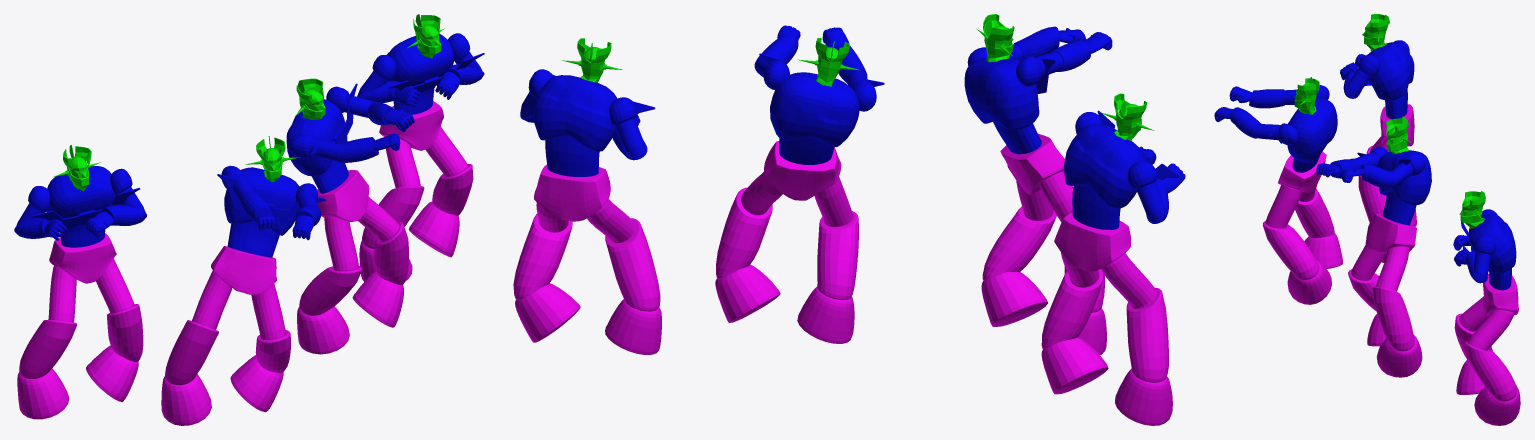
The model's file is MazingerZ_dance_02.fbx.
The picture shows the model from 3 angles, left to right: view 1: azimuth 30°, elevation 25°; view 2: azimuth 150°, elevation 25°; view 3: azimuth 270°, elevation 25°; orthographic projection. The views are drawn at different scales.
Visible parts, largest first — view 1: MazingerZ_GEO1, MazingerZ_GEO2, MazingerZ_GEO4, MazingerZ_GEO3; view 2: MazingerZ_GEO4, MazingerZ_GEO1, MazingerZ_GEO3, MazingerZ_GEO2; view 3: MazingerZ_GEO2, MazingerZ_GEO4, MazingerZ_GEO3, MazingerZ_GEO1.
Boxes of the visible parts, box(x1,y1,x2,y2) form: MazingerZ_GEO1: box(14, 145, 146, 419); MazingerZ_GEO2: box(161, 136, 326, 425); MazingerZ_GEO4: box(286, 78, 414, 354); MazingerZ_GEO3: box(357, 14, 484, 281); MazingerZ_GEO4: box(715, 25, 884, 343); MazingerZ_GEO1: box(1041, 93, 1185, 425); MazingerZ_GEO3: box(513, 38, 661, 354); MazingerZ_GEO2: box(964, 14, 1112, 354); MazingerZ_GEO2: box(1214, 77, 1342, 304); MazingerZ_GEO4: box(1316, 116, 1431, 377); MazingerZ_GEO3: box(1453, 191, 1520, 425); MazingerZ_GEO1: box(1340, 14, 1416, 262).
Bounding box in the file's own units: 359 × 178 × 217.
